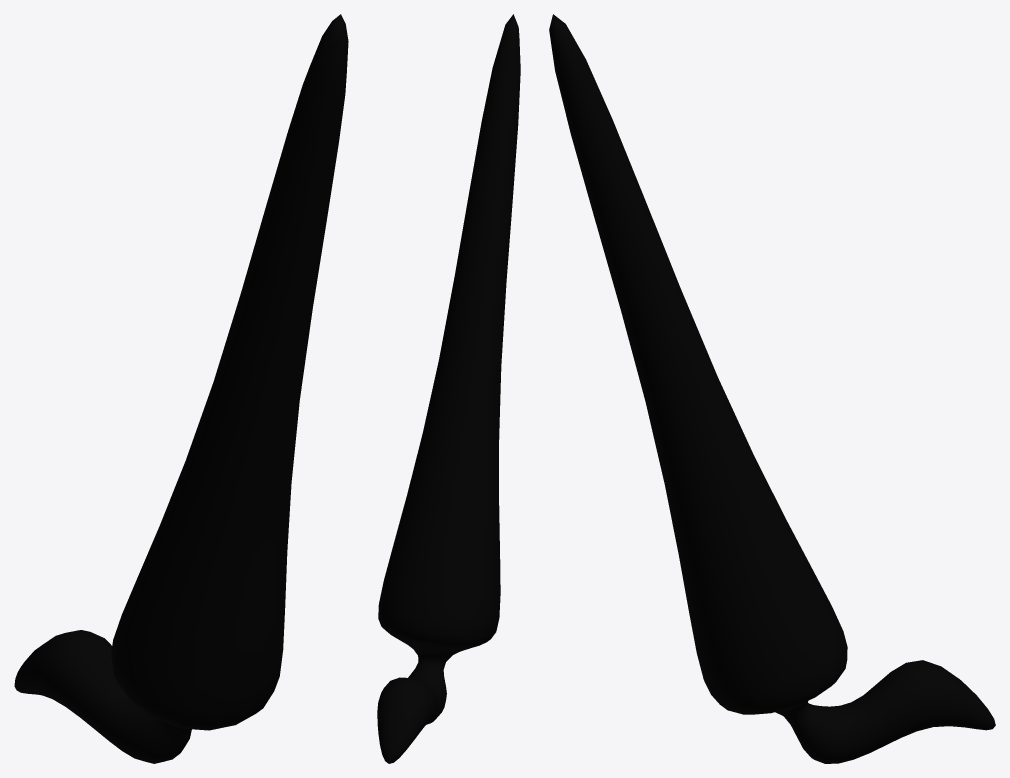
Rendered from Middle leg 2.fbx.
3 views of the same model, side by side, from view 1: azimuth 30°, elevation 25°; view 2: azimuth 150°, elevation 25°; view 3: azimuth 270°, elevation 25° (orthographic). The views are drawn at different scales.
Parts seen in each view (by area): view 1: Cube.009; view 2: Cube.009; view 3: Cube.009.
Part boxes in pixels (left/top/right/bottom): Cube.009: left=14, top=14, right=348, bottom=763; Cube.009: left=377, top=14, right=520, bottom=763; Cube.009: left=549, top=14, right=995, bottom=763.
Bounding box in the file's own units: 13.71 × 78.59 × 41.85.
